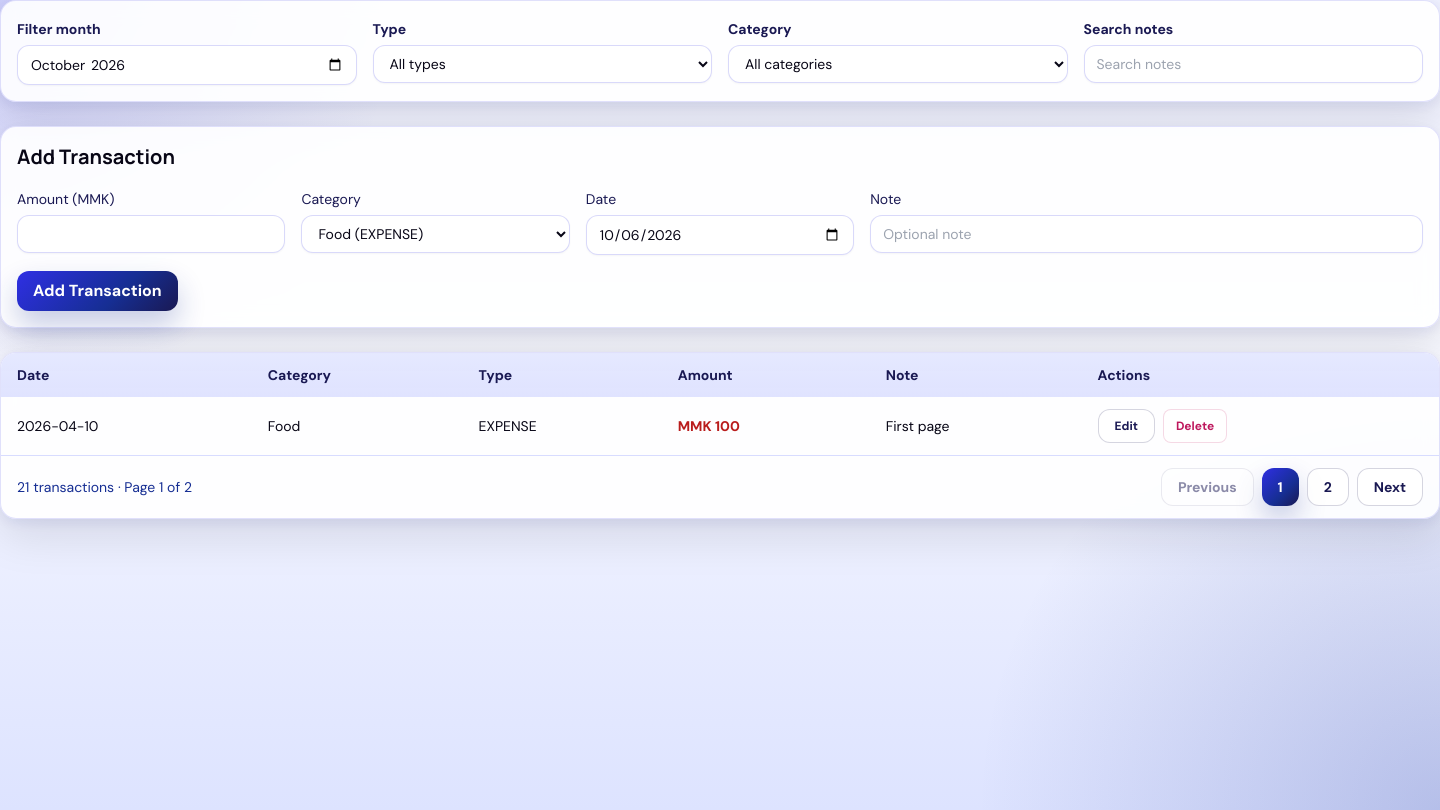
TransactionsPage › returns to the previous page when the last row is deleted
Expected: the text "First page" is shown, [870,397,1082,455]
Click the button named "Page 2" at (1328, 487), box [1307,468,1349,506]
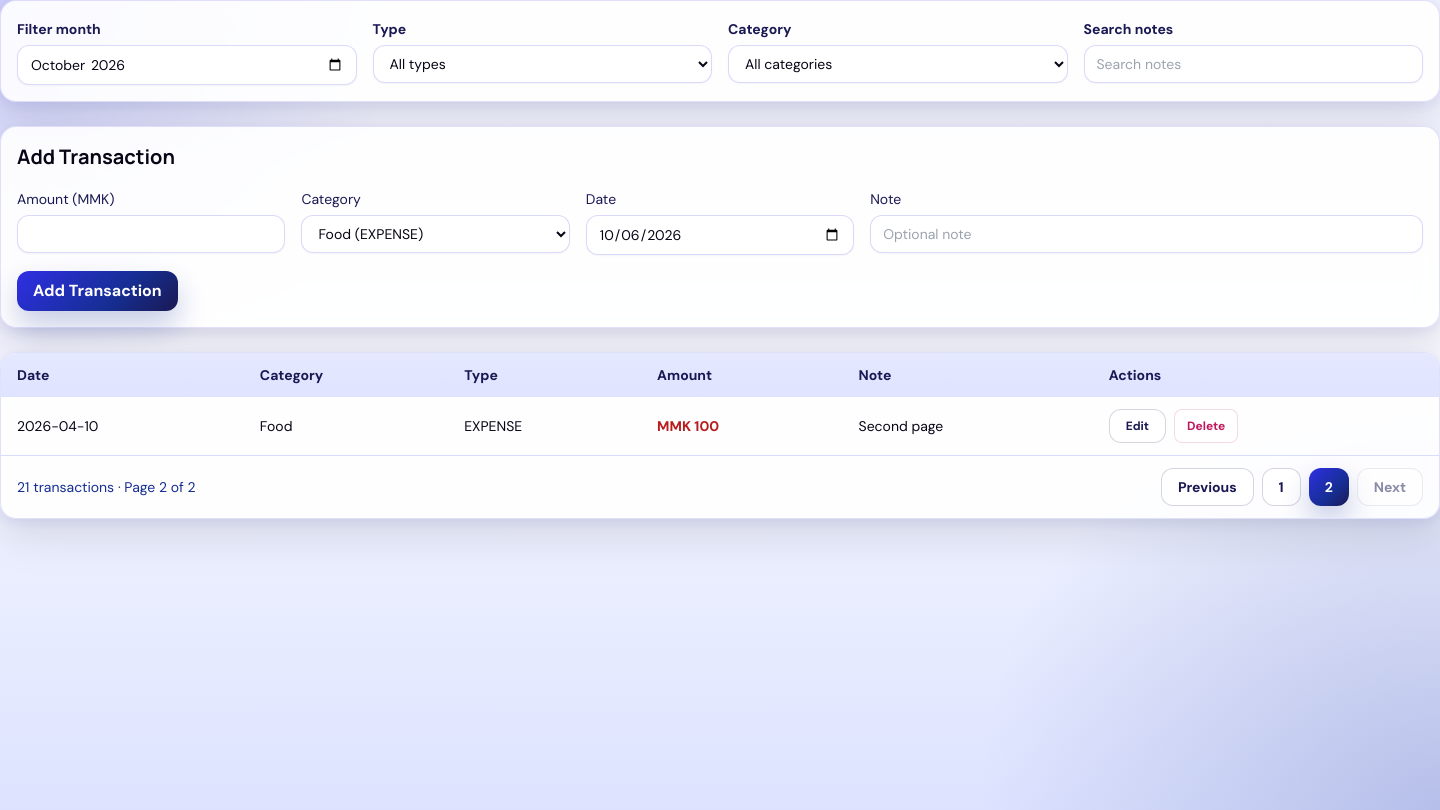
Result: the text "Second page" is shown at [842,397,1093,455]
Click the button "Delete" at (1206, 426), box [1174,409,1238,443]
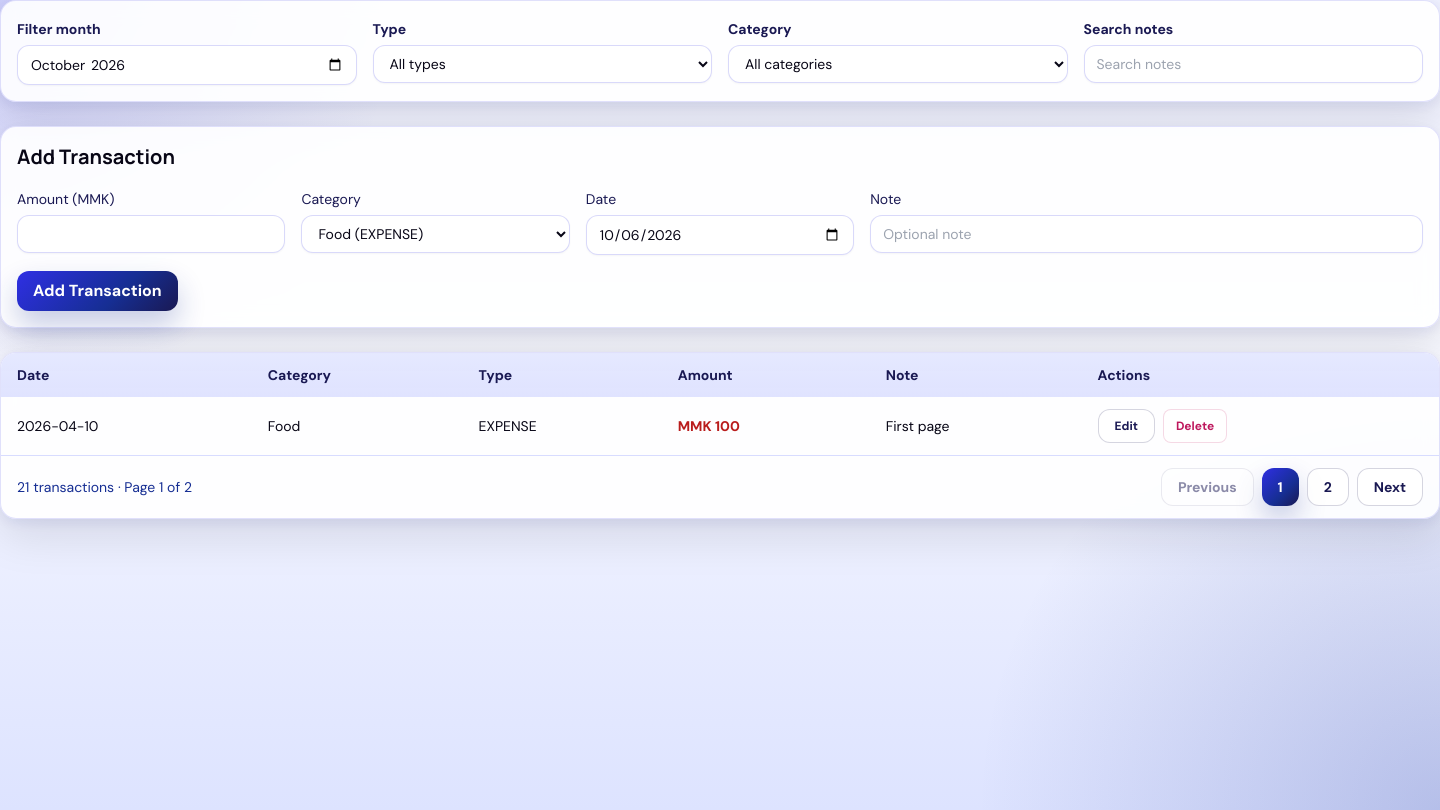
Result: the text "First page" is shown at [870,397,1082,455]
